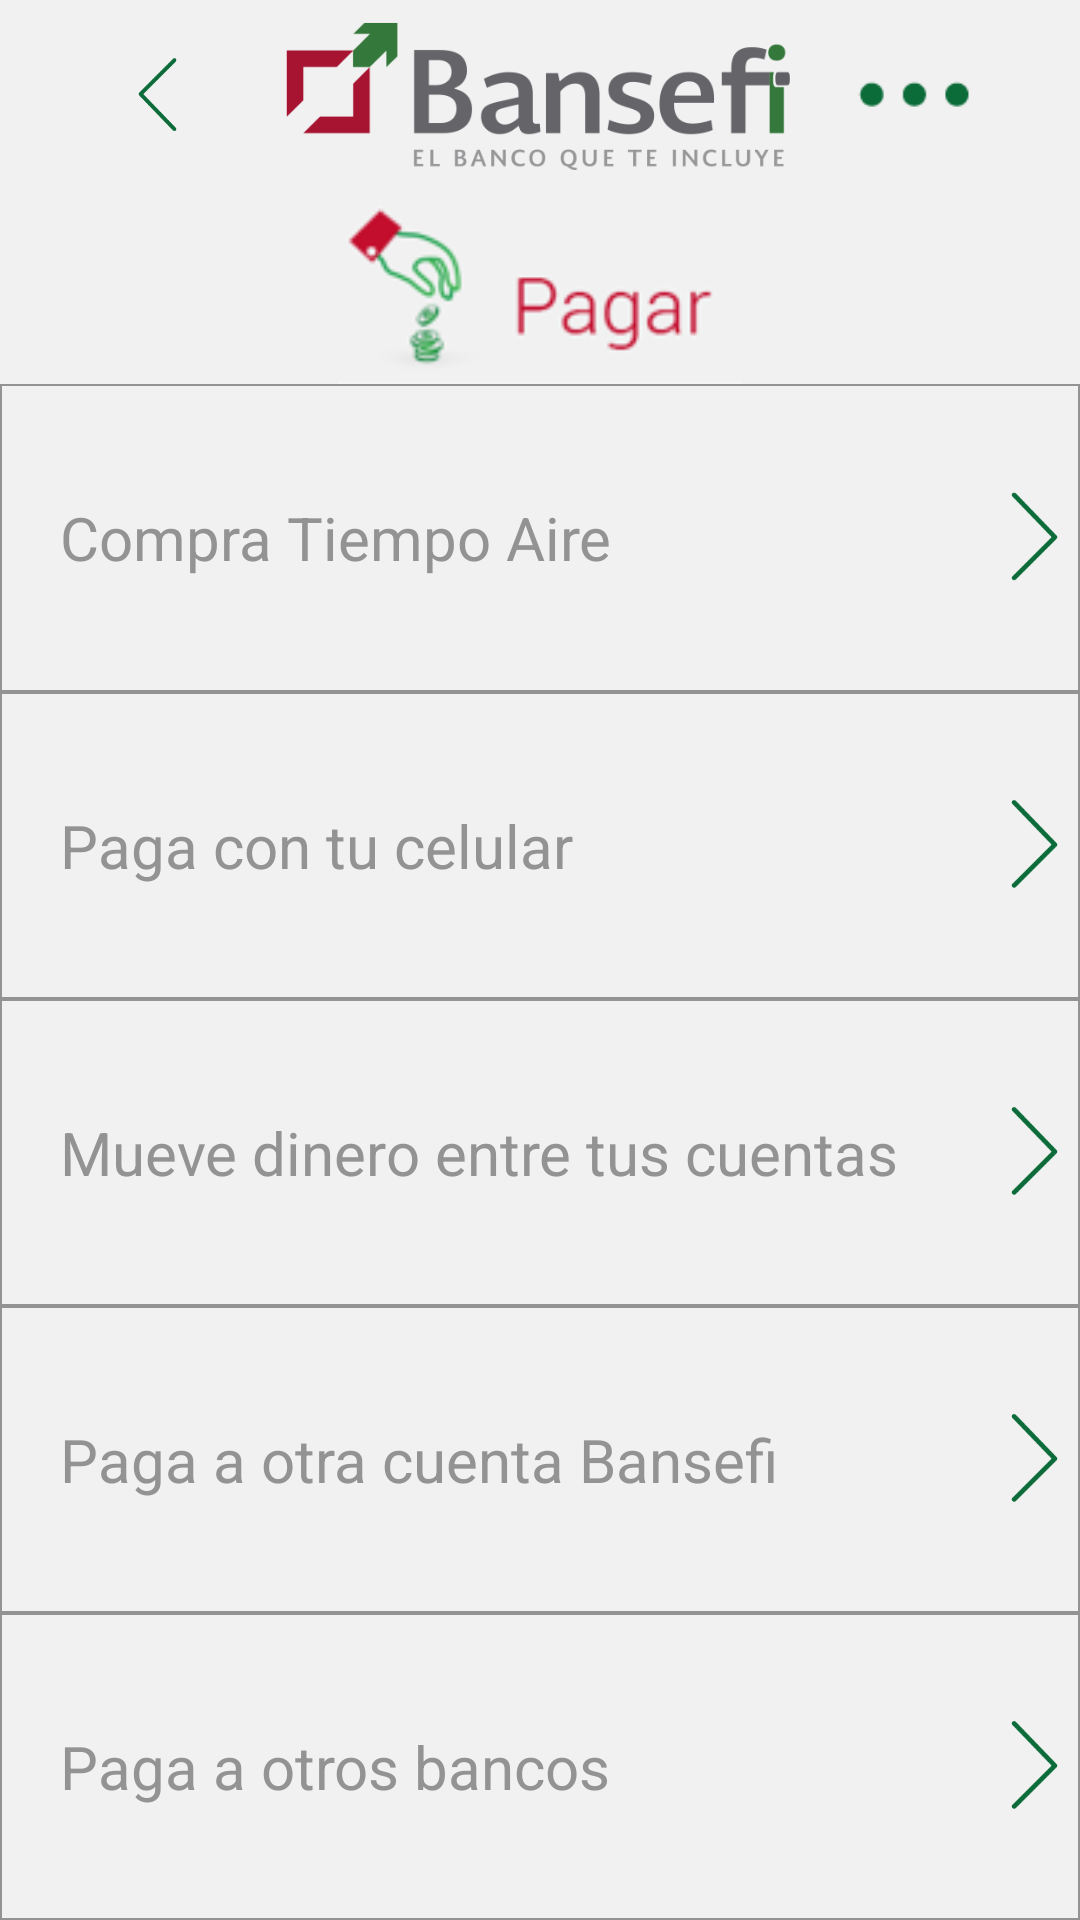

Where to tap for icons on this 1080*1920 app screen, as [x,y]:
return: [157,94]
